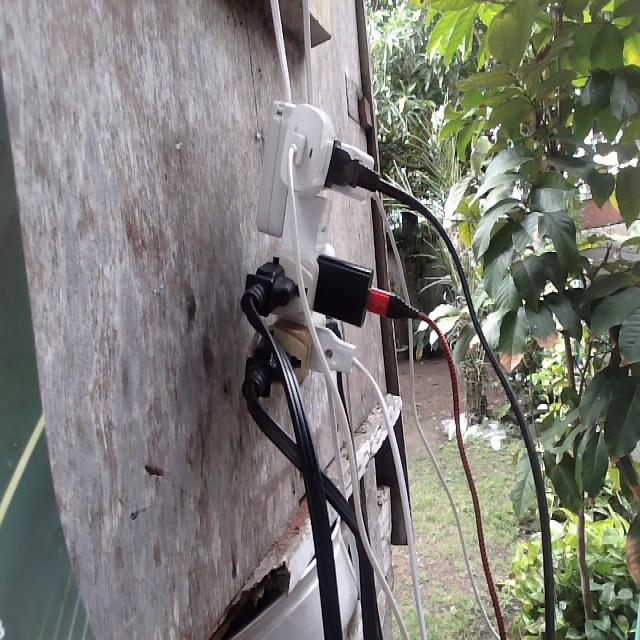-: (241, 97, 384, 396)
